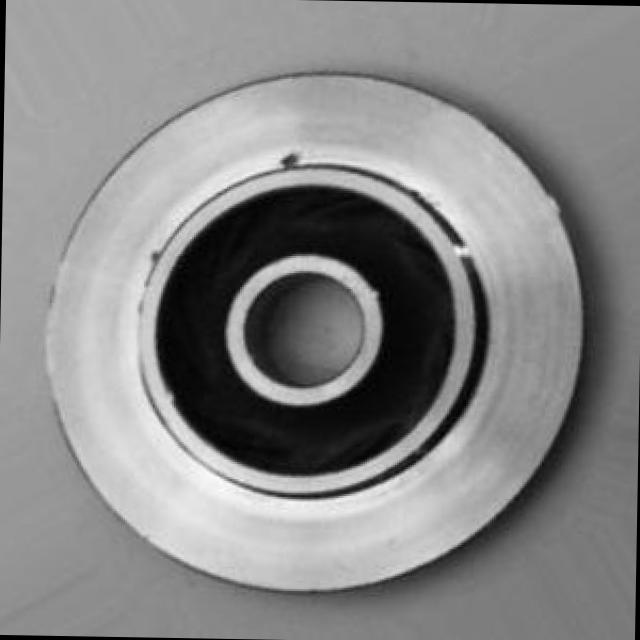Defect: (278, 144, 300, 172)
